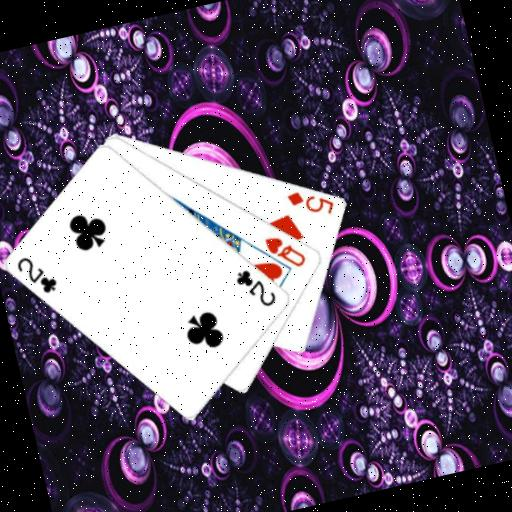2C: (12, 248, 62, 301), (231, 261, 280, 314)
5D: (283, 181, 338, 225)
QH: (261, 227, 309, 275)
